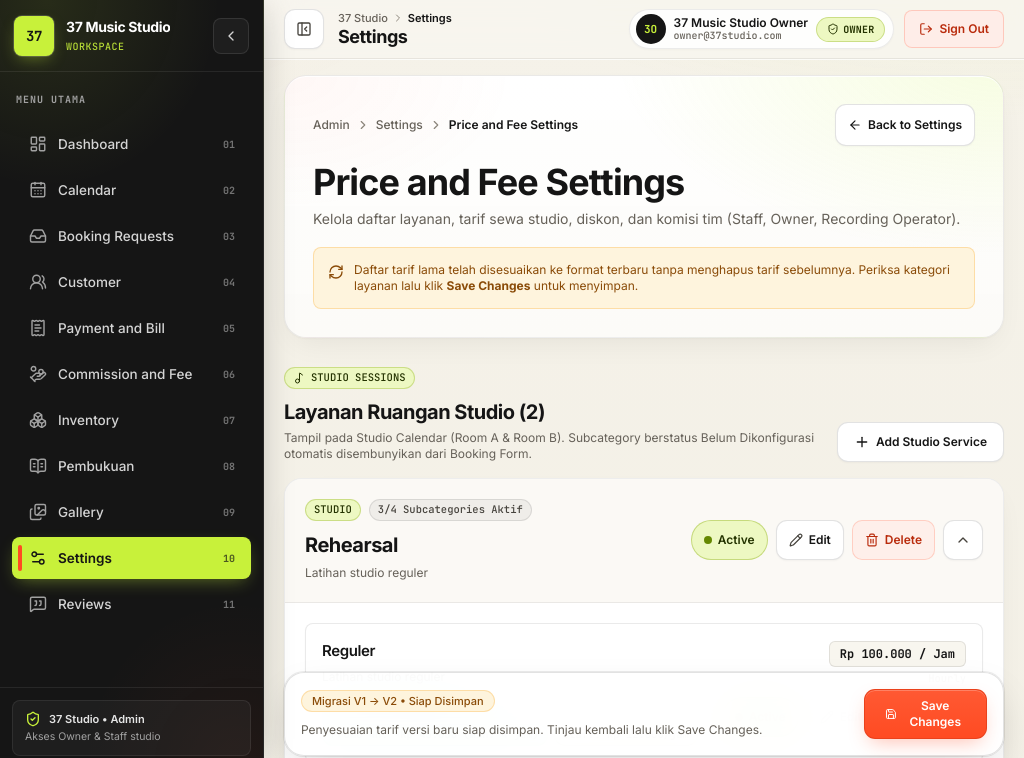
Test: Phase 6 V2 — Service Catalog & Tariff Model Redesign › D. Schema V1 -> V2 Migration Safety & Idempotence › migrates legacy V1 settings losslessly without auto-writing to Firestore and remains idempotent across repeated normalizations
The width and height of the screenshot is (1024, 758).
Expected: the text "Migrasi V1 → V2 • Siap Disimpan" is shown, [312,693,484,709]
Click the button "Save Changes".
click(925, 714)  # box [864,689,987,739]
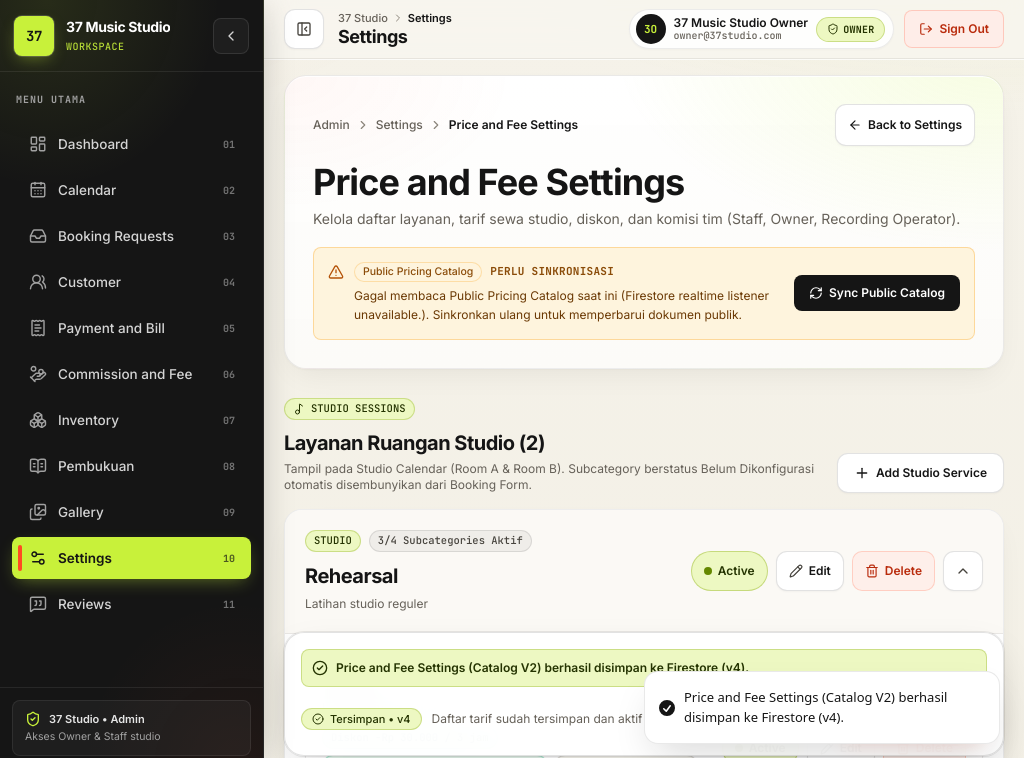
Expected: the text "Tersimpan • v4" is shown, [330,711,410,727]
